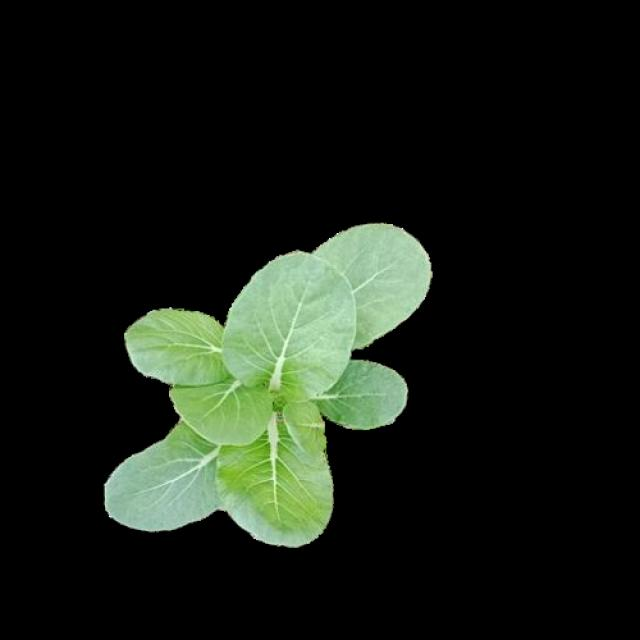healthy: (105, 224, 430, 544)
not-mature: (102, 222, 428, 542)
